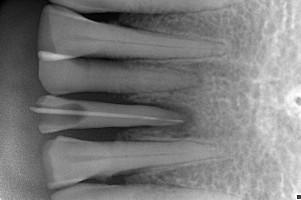Furcation Involvement: (152, 103, 196, 138)
